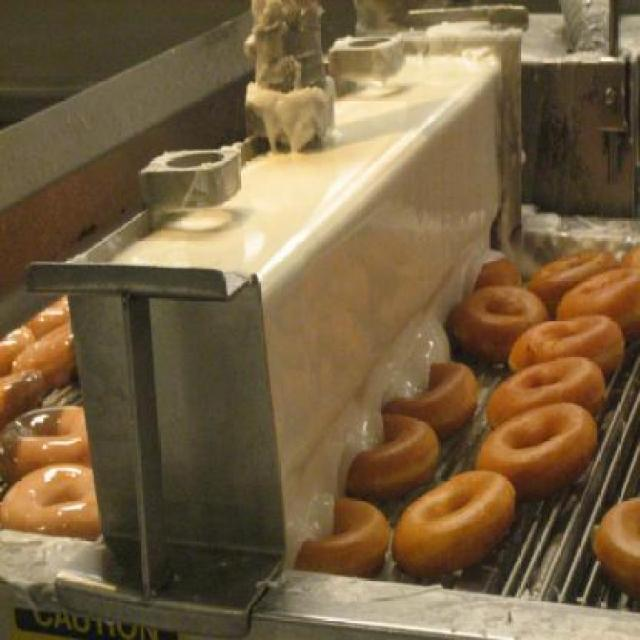Bagel: (394, 456, 523, 578)
